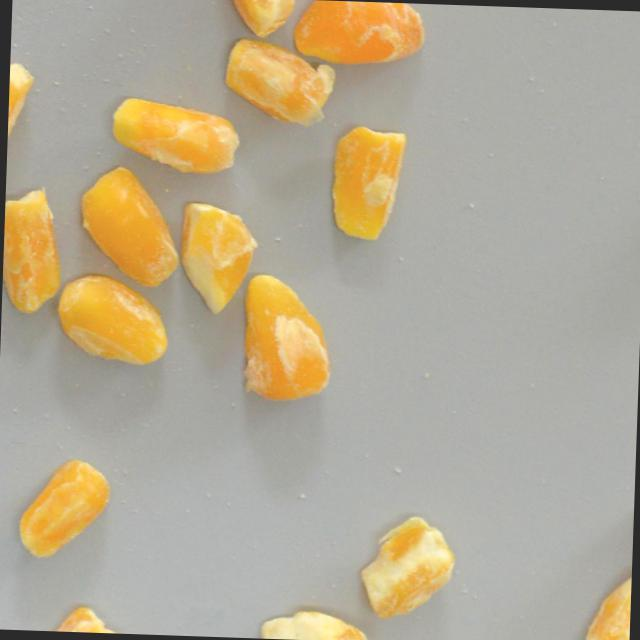dañado: (73, 163, 187, 290), (235, 271, 339, 403), (352, 509, 463, 627), (8, 454, 116, 565), (105, 93, 244, 179), (54, 272, 173, 368), (218, 36, 340, 129), (173, 195, 263, 317), (327, 122, 408, 246), (291, 0, 434, 70), (0, 186, 67, 318), (4, 59, 43, 191), (6, 599, 131, 634), (582, 564, 632, 640)
punto_negro: (248, 605, 374, 640), (213, 0, 298, 40)
